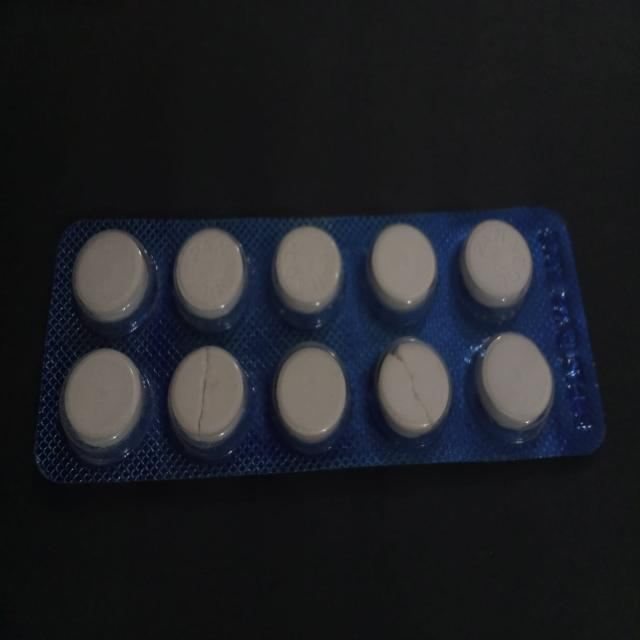defect: (162, 341, 256, 463), (368, 332, 456, 448)
